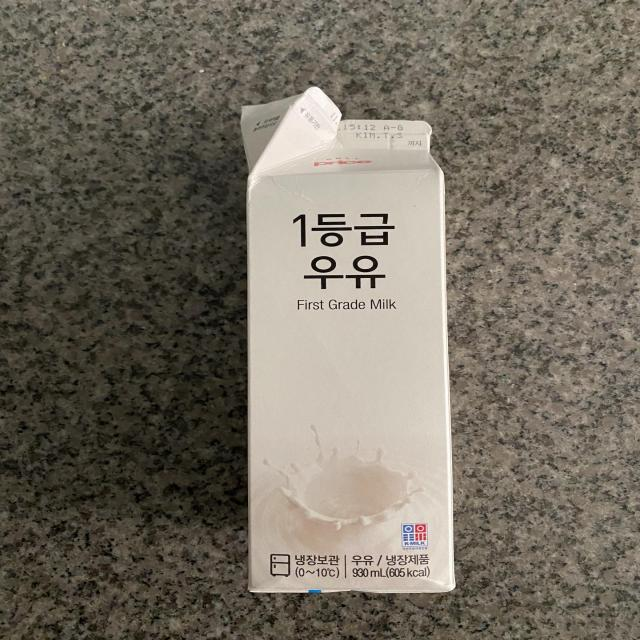paperpack: (241, 86, 455, 594)
